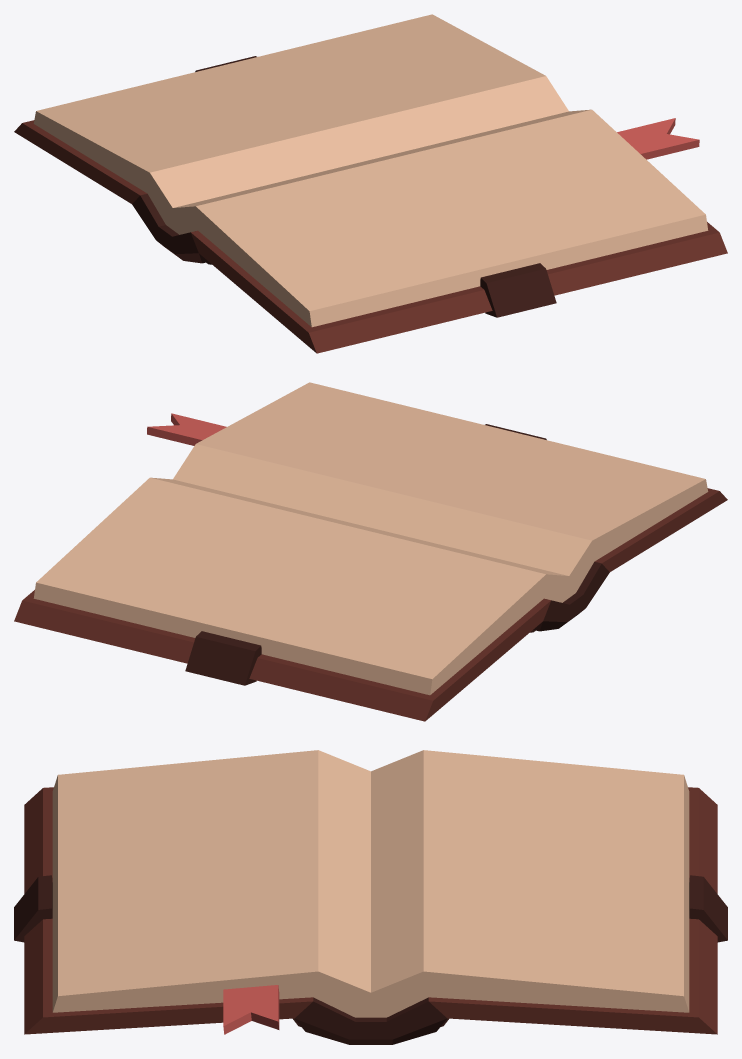
The model's file is Open Spellbook.fbx.
The picture shows the model from 3 angles, top to bottom: view 1: azimuth 30°, elevation 25°; view 2: azimuth 150°, elevation 25°; view 3: azimuth 270°, elevation 25°; orthographic projection. The views are drawn at different scales.
Parts seen in each view (by area): view 1: Open Spellbook; view 2: Open Spellbook; view 3: Open Spellbook.
Boxes of the visible parts, box(x1,y1,x2,y2) form: Open Spellbook: box(14, 14, 727, 353); Open Spellbook: box(14, 382, 727, 721); Open Spellbook: box(14, 750, 727, 1044).
Bounding box in the file's own units: 50.84 × 7.59 × 58.47.
